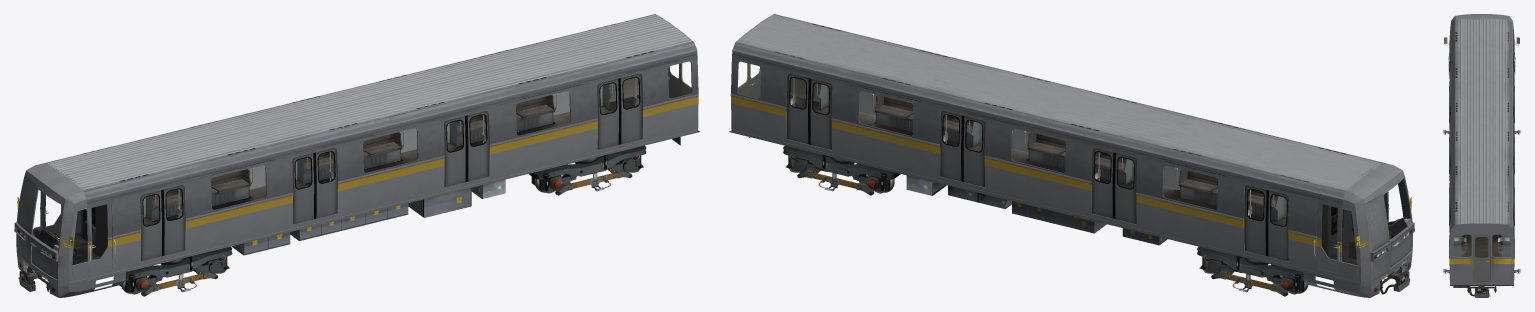
File: tren.fbx
3 views of the same model, side by side, from view 1: azimuth 30°, elevation 25°; view 2: azimuth 150°, elevation 25°; view 3: azimuth 270°, elevation 25° (orthographic). The views are drawn at different scales.
Visible parts, largest first — view 1: TREN EXTERIOR, TREN INTERIOR, RUEDAS, PUERTA_4_DERECHA, PUERTA_3_IZQUIERDA, PUERTA_3_DERECHA, PUERTA_2_IZQUIERDA, PUERTA_2_DERECHA, PUERTA_4_IZQUIERDA, PUERTA_1_DERECHA, PUERTA_1_IZQUIERDA, PANEL DE CONTROL (+1 smaller); view 2: TREN EXTERIOR, TREN INTERIOR, RUEDAS, PANEL DE CONTROL, PARACHOQUES; view 3: TREN EXTERIOR, TREN INTERIOR, PARACHOQUES, RUEDAS.
Part boxes in pixels (x1,y1,x2,y2): TREN EXTERIOR: [14, 14, 699, 297]; TREN INTERIOR: [31, 63, 691, 264]; RUEDAS: [119, 145, 646, 296]; PUERTA_4_DERECHA: [619, 73, 642, 144]; PUERTA_3_IZQUIERDA: [444, 116, 466, 187]; PUERTA_3_DERECHA: [466, 111, 489, 181]; PUERTA_2_IZQUIERDA: [292, 153, 315, 224]; PUERTA_2_DERECHA: [314, 148, 337, 218]; PUERTA_4_IZQUIERDA: [597, 78, 620, 149]; PUERTA_1_DERECHA: [162, 185, 185, 255]; PUERTA_1_IZQUIERDA: [140, 190, 163, 261]; PANEL DE CONTROL: [34, 204, 107, 257]; TREN EXTERIOR: [729, 14, 1414, 297]; TREN INTERIOR: [738, 63, 1410, 275]; RUEDAS: [783, 145, 1308, 296]; PANEL DE CONTROL: [1321, 204, 1410, 259]; PARACHOQUES: [749, 137, 1409, 294]; TREN EXTERIOR: [1444, 14, 1519, 287]; TREN INTERIOR: [1450, 85, 1513, 279]; PARACHOQUES: [1467, 284, 1496, 297]; RUEDAS: [1443, 130, 1520, 286].
Bounding box in the file's own units: 2220 × 391 × 323.
